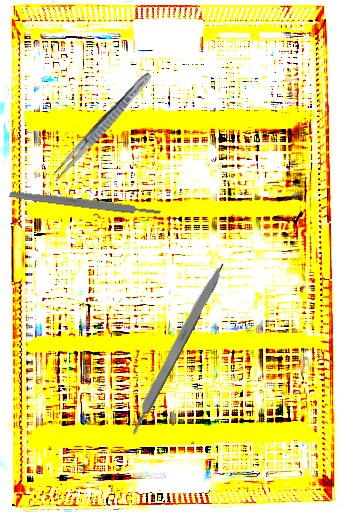Dressing Forceps: (49, 69, 155, 185)
Scalpel Handle: (124, 259, 228, 438), (9, 189, 161, 218)
